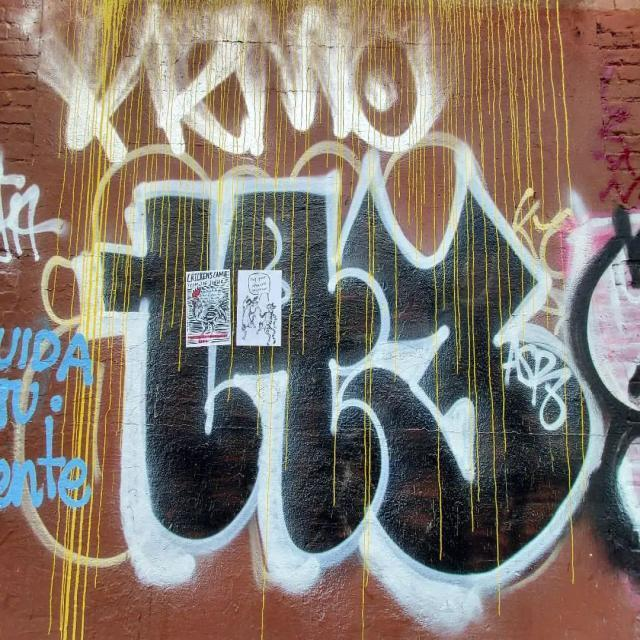-: (54, 165, 606, 593), (24, 9, 448, 178), (0, 312, 95, 529), (0, 149, 68, 263)
